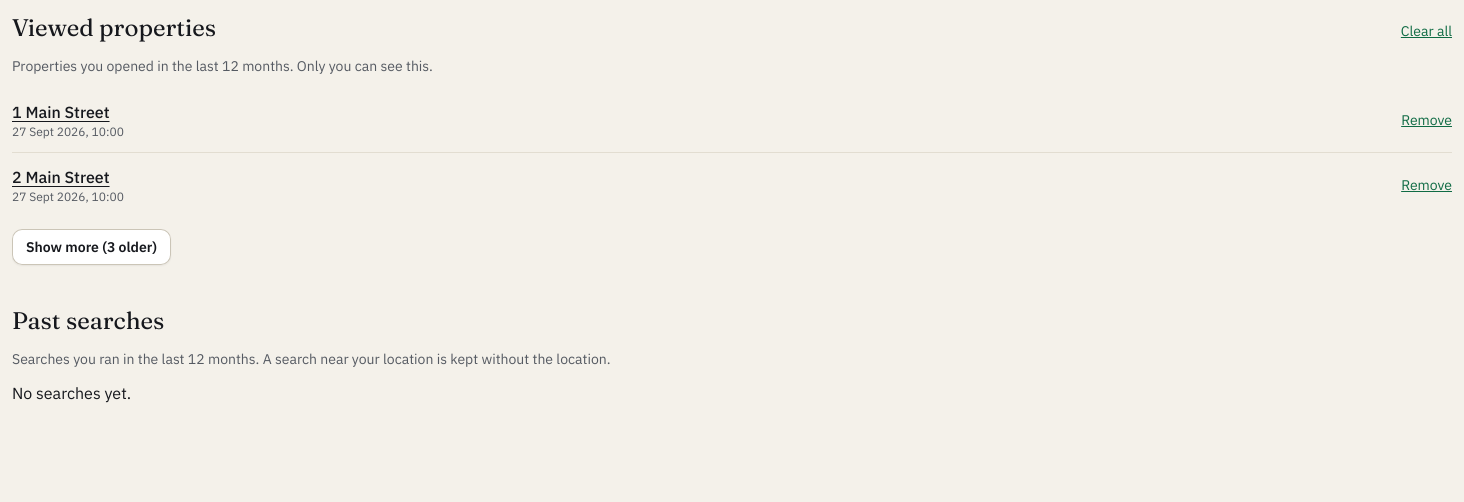
Test: History › skips nothing after a Remove, and stops offering more at the end
The width and height of the screenshot is (1464, 502).
Click the button with aria-label "Remove 1 Main Street from history": {"x": 1427, "y": 120} [1401, 110, 1452, 130]
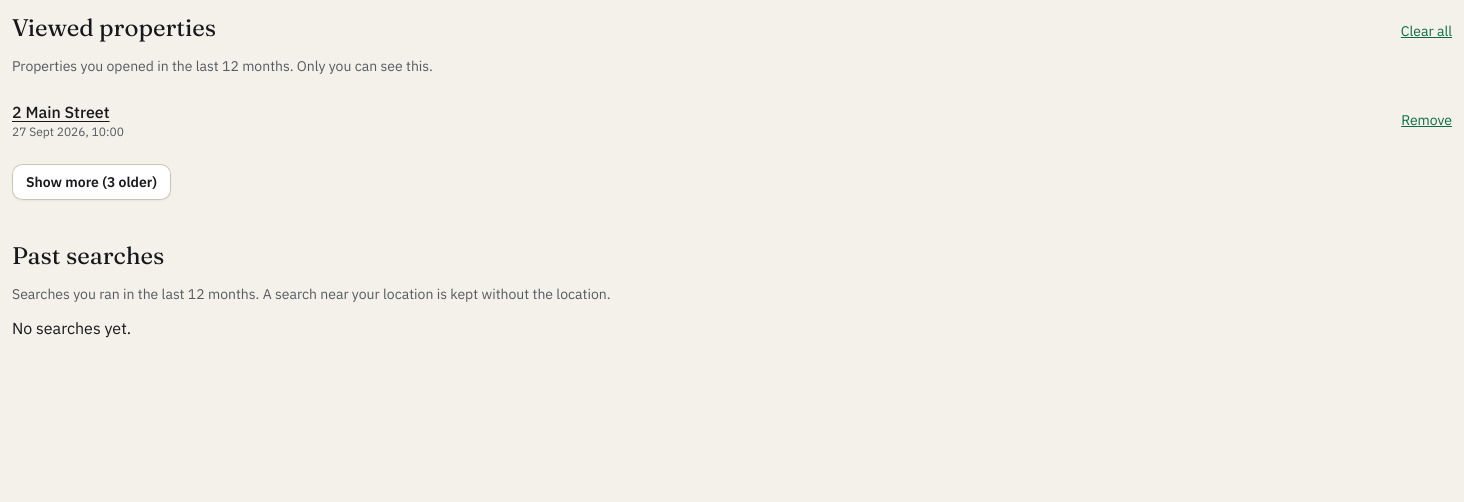
Now the link "1 Main Street" is gone
Click the button "Show more (3 older)": {"x": 92, "y": 182} [12, 164, 171, 200]
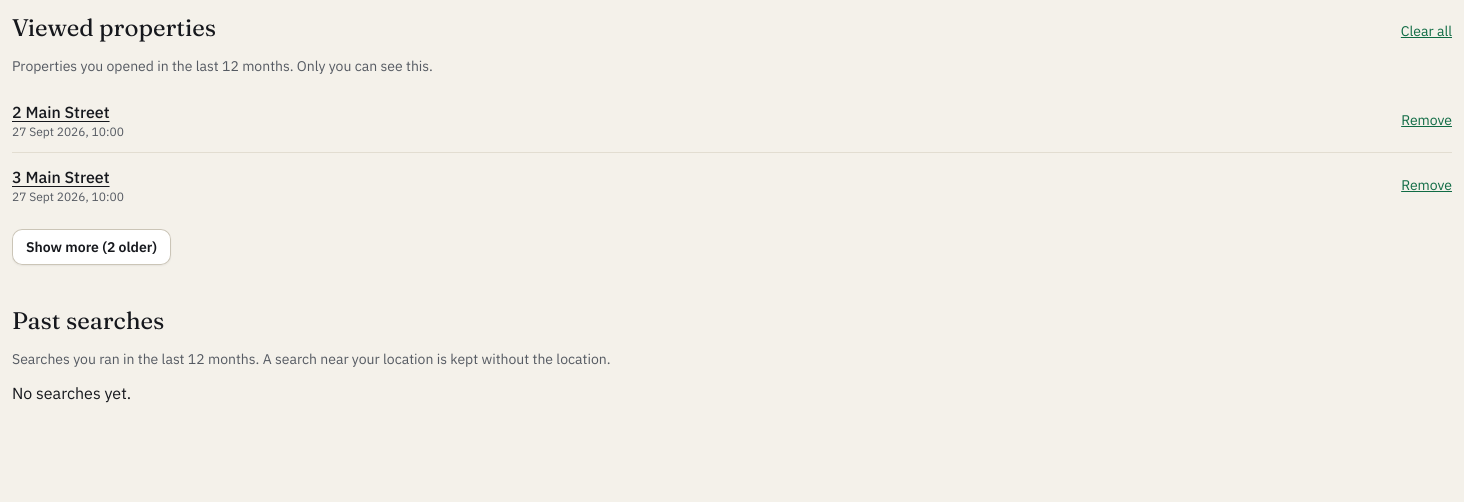
Now the link "3 Main Street" is shown, box [12, 167, 110, 187]
Click the button "Show more (2 older)": {"x": 92, "y": 247} [12, 229, 171, 265]
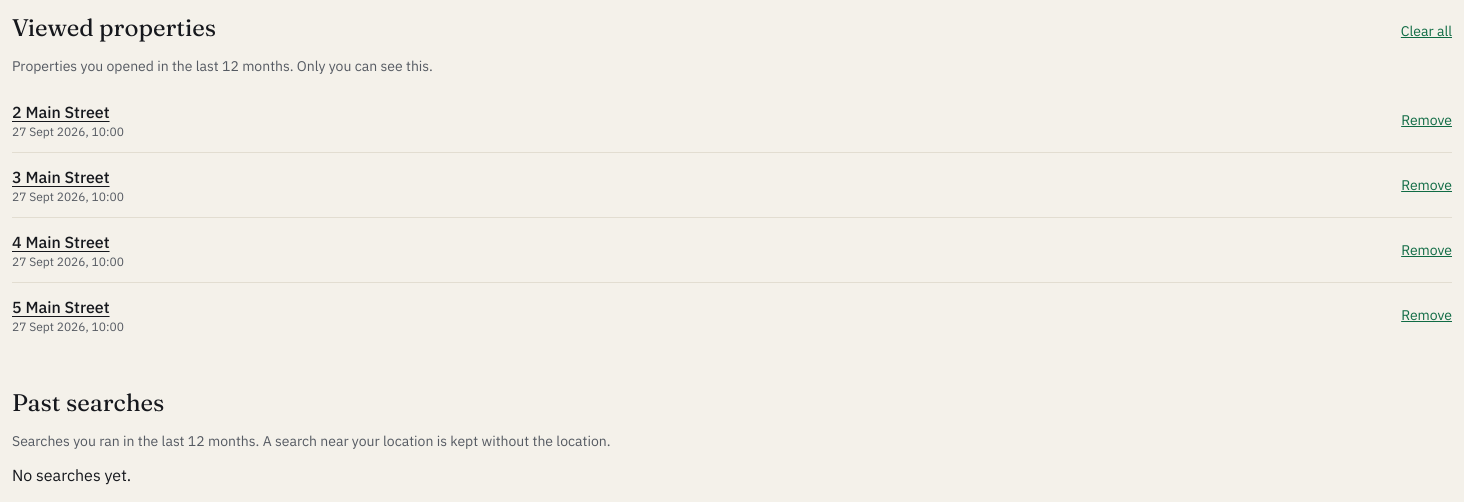
Now the link "5 Main Street" is shown, box [12, 297, 110, 317]
Now the links read "2 Main Street", "3 Main Street", "4 Main Street", "5 Main Street", in this order, box [12, 102, 110, 122]; [12, 167, 110, 187]; [12, 232, 110, 252]; [12, 297, 110, 317]
Now the button "Show more" is gone
